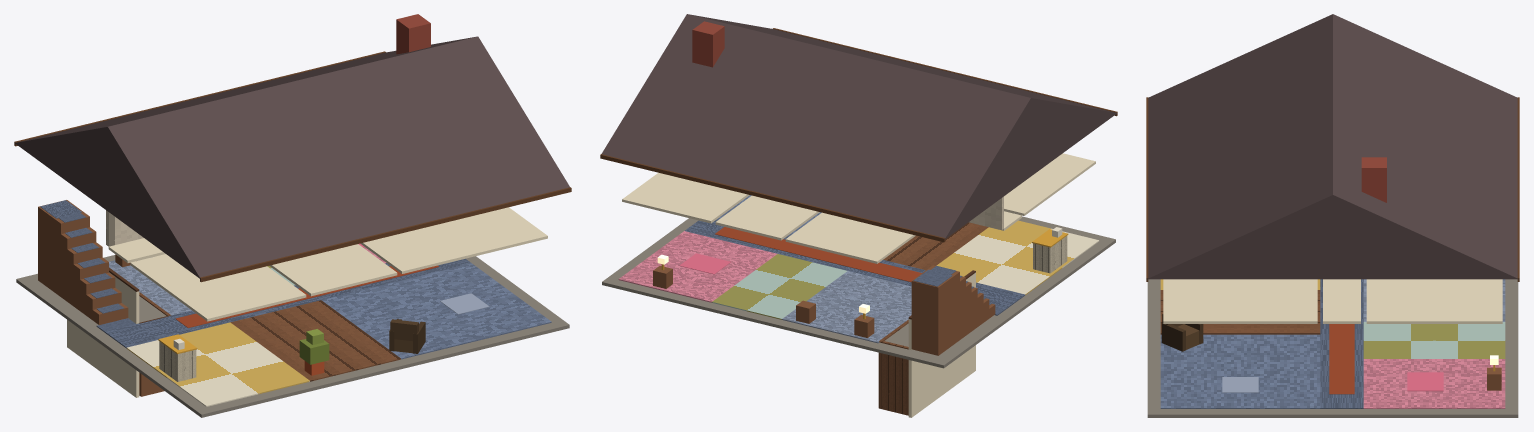
The model's file is structure.glb.
The picture shows the model from 3 angles, left to right: view 1: azimuth 30°, elevation 25°; view 2: azimuth 150°, elevation 25°; view 3: azimuth 270°, elevation 25°; orthographic projection. The views are drawn at different scales.
Visible parts, largest first — view 1: Part1, Box2, Box1, Box6, Box4, Box3, Box7, Box5, Box8, Box38, Box20, Box36 (+15 smaller); view 2: Part1, Box1, Box6, Box10, Box14, Box12, Box15, Box11, Box36, Box13, Box38, Box7 (+10 smaller); view 3: Part1, Box2, Box1, Box3, Box11, Box10, Box12, Box8, Box77, Box9, Box4, Box21 (+6 smaller).
Part boxes in pixels (left/top/right/bottom): Part1: left=15, top=36, right=569, bottom=278; Box2: left=321, top=263, right=551, bottom=359; Box1: left=16, top=255, right=569, bottom=417; Box6: left=126, top=322, right=309, bottom=406; Box4: left=230, top=300, right=400, bottom=381; Box3: left=360, top=207, right=547, bottom=273; Box7: left=130, top=254, right=306, bottom=321; Box5: left=269, top=244, right=397, bottom=296; Box8: left=105, top=258, right=471, bottom=348; Box38: left=67, top=272, right=139, bottom=397; Box20: left=200, top=187, right=571, bottom=282; Box36: left=38, top=200, right=83, bottom=292; Part1: left=601, top=14, right=1117, bottom=239; Box1: left=602, top=216, right=1115, bottom=368; Box6: left=936, top=220, right=1099, bottom=294; Box10: left=618, top=231, right=777, bottom=302; Box14: left=782, top=271, right=911, bottom=343; Box12: left=712, top=254, right=846, bottom=319; Box15: left=785, top=212, right=915, bottom=263; Box11: left=622, top=172, right=749, bottom=223; Box36: left=911, top=269, right=953, bottom=355; Box13: left=715, top=195, right=819, bottom=240; Box38: left=908, top=272, right=975, bottom=417; Box7: left=1004, top=153, right=1095, bottom=215; Part1: left=1147, top=14, right=1517, bottom=279; Box2: left=1160, top=334, right=1320, bottom=408; Box1: left=1147, top=279, right=1518, bottom=417; Box3: left=1163, top=279, right=1317, bottom=323; Box11: left=1366, top=279, right=1502, bottom=323; Box10: left=1363, top=359, right=1505, bottom=408; Box12: left=1363, top=322, right=1505, bottom=358; Box8: left=1320, top=279, right=1363, bottom=408; Box77: left=1329, top=324, right=1354, bottom=394; Box9: left=1323, top=279, right=1360, bottom=323; Box4: left=1160, top=290, right=1320, bottom=334; Box21: left=1361, top=157, right=1386, bottom=202.
Size of the model in its own units: 11.8 by 9.25 by 10.3.
33 materials, 9 textured.
